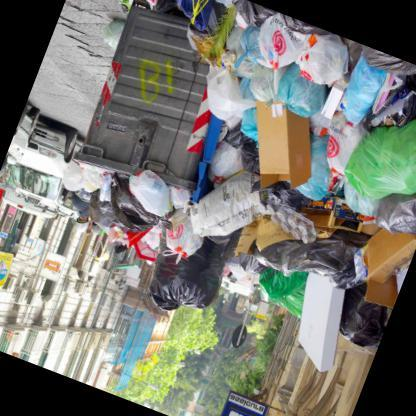Garbage: (201, 0, 415, 200), (54, 151, 216, 267), (242, 185, 380, 303), (138, 213, 235, 328), (345, 89, 415, 216), (326, 275, 397, 369), (240, 251, 322, 327), (214, 211, 282, 302), (286, 128, 348, 212), (235, 10, 306, 78), (94, 173, 161, 240), (331, 55, 390, 130), (152, 202, 216, 270), (270, 62, 334, 126), (297, 28, 358, 93), (352, 43, 415, 85), (204, 135, 252, 190), (58, 160, 116, 204), (147, 0, 223, 33), (128, 168, 177, 214), (250, 61, 285, 105), (126, 0, 184, 12)
